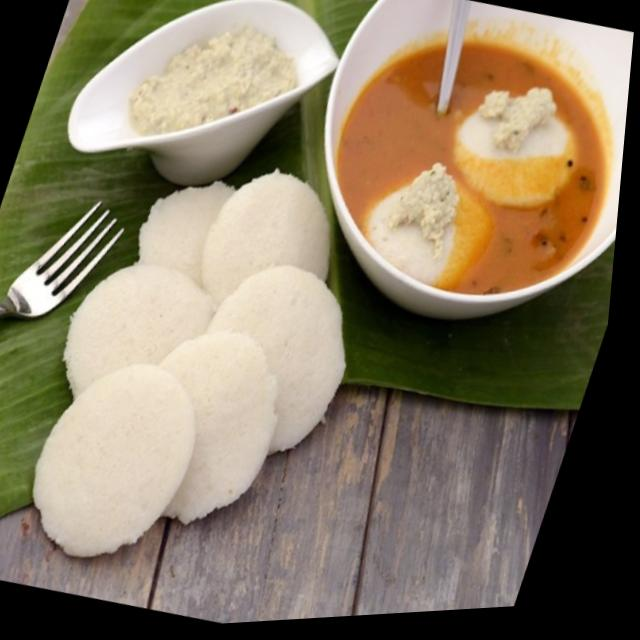IDLI: (32, 171, 344, 554)
WHITE CHUTNEY: (129, 27, 296, 135)
